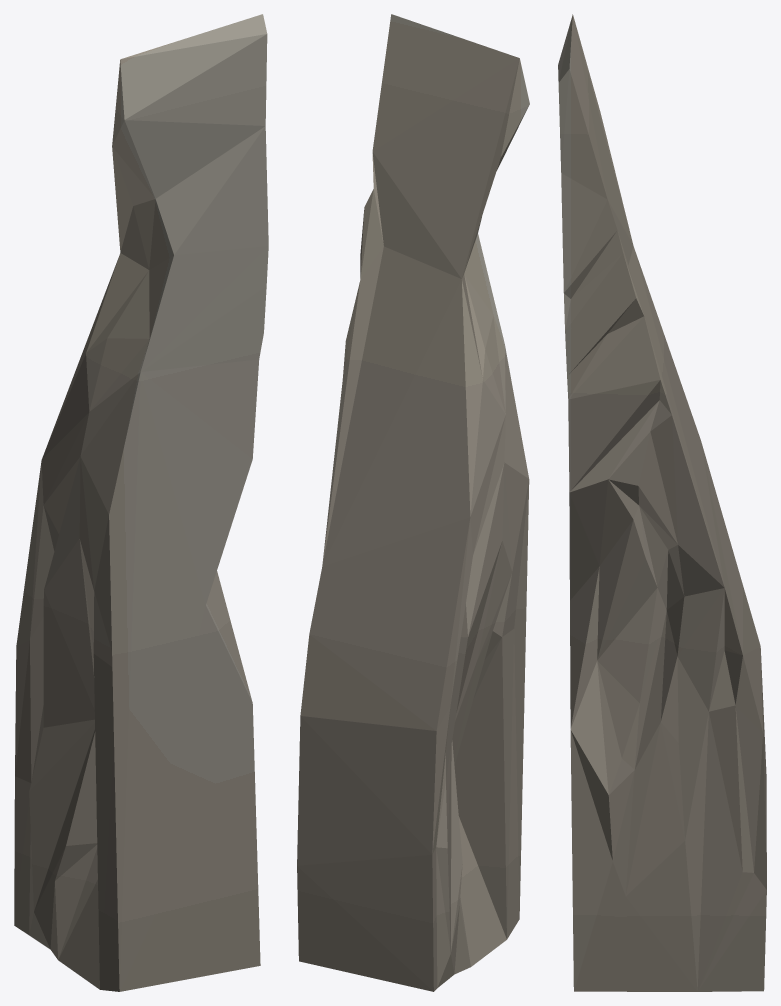
The model's file is YN_PointyRock4.fbx.
The picture shows the model from 3 angles, left to right: view 1: azimuth 30°, elevation 25°; view 2: azimuth 150°, elevation 25°; view 3: azimuth 270°, elevation 25°; orthographic projection. The views are drawn at different scales.
Parts seen in each view (by area): view 1: PointyRock4; view 2: PointyRock4; view 3: PointyRock4.
Part boxes in pixels (<box>): PointyRock4: <box>14,14,268,991</box>; PointyRock4: <box>297,14,529,991</box>; PointyRock4: <box>558,14,766,991</box>.
Size of the model in its own units: 1.85 by 10.72 by 2.2.
